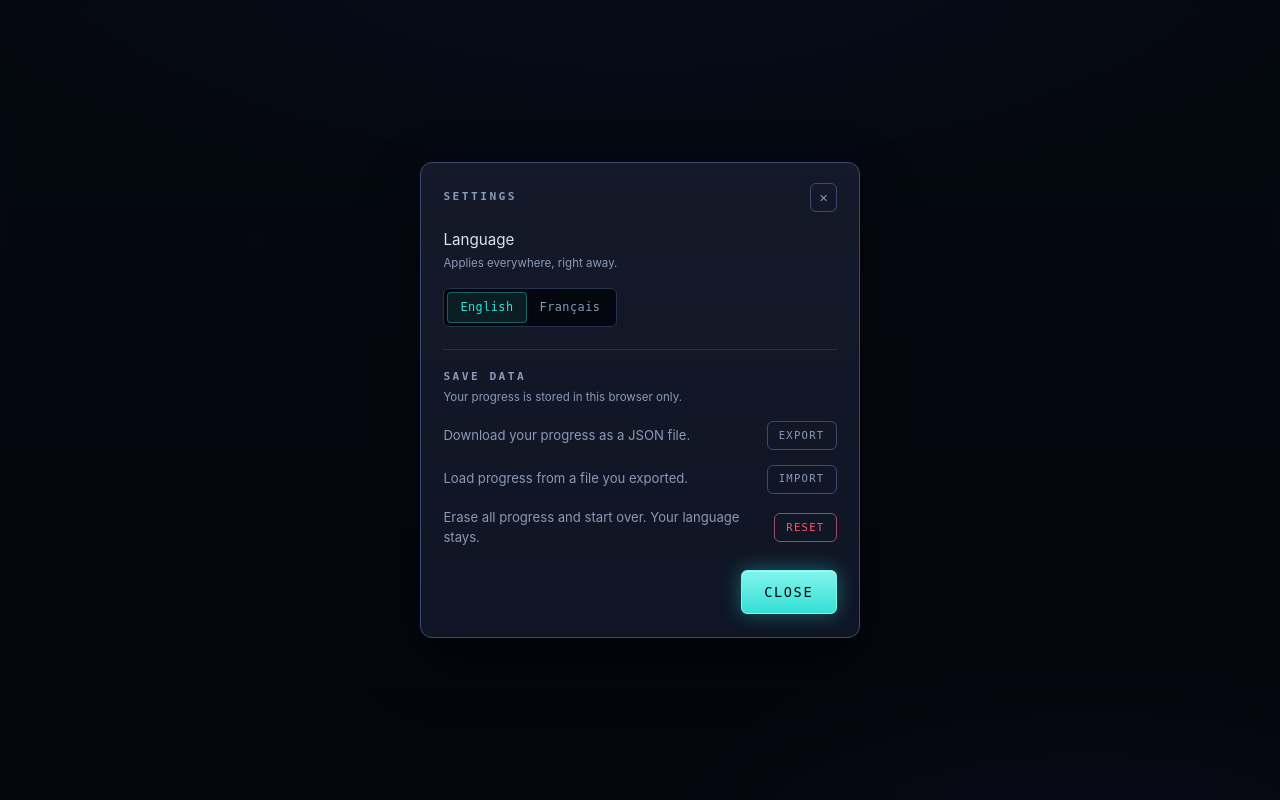
Test case: SettingsPanel — reset › leaves progress intact when the confirmation is cancelled
Click the button "Reset".
click(805, 528)  # box top-left (774, 513), bottom-right (837, 542)
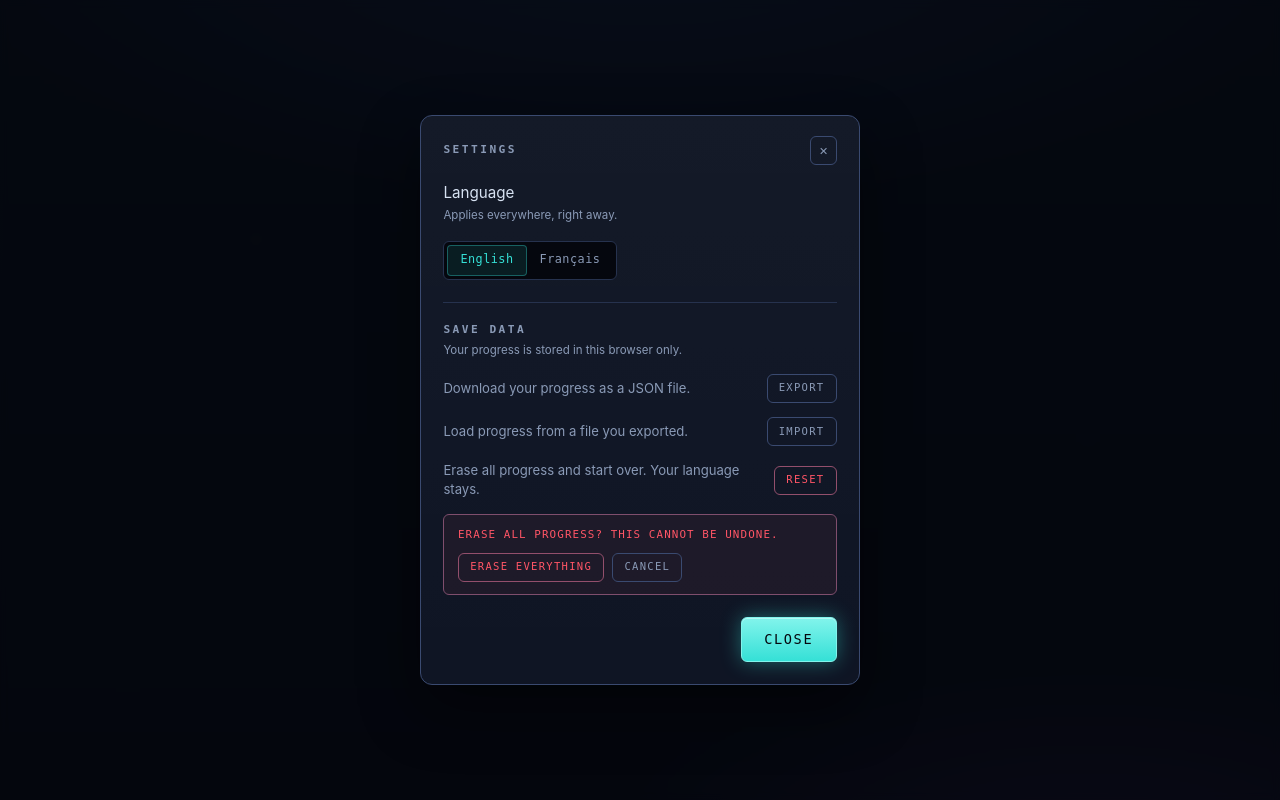
Click the button "Cancel".
click(647, 567)  # box top-left (612, 553), bottom-right (682, 582)
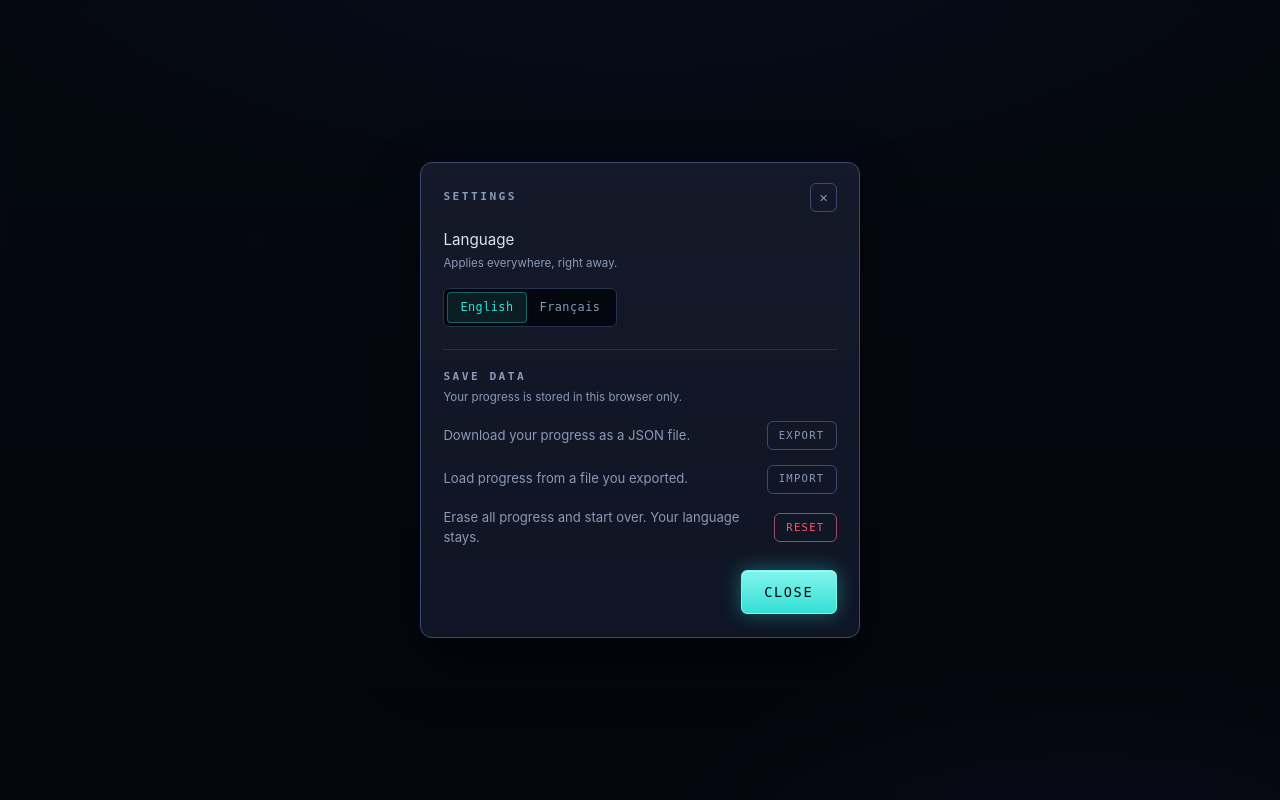
Expected: the text "Erase all progress?" is gone
